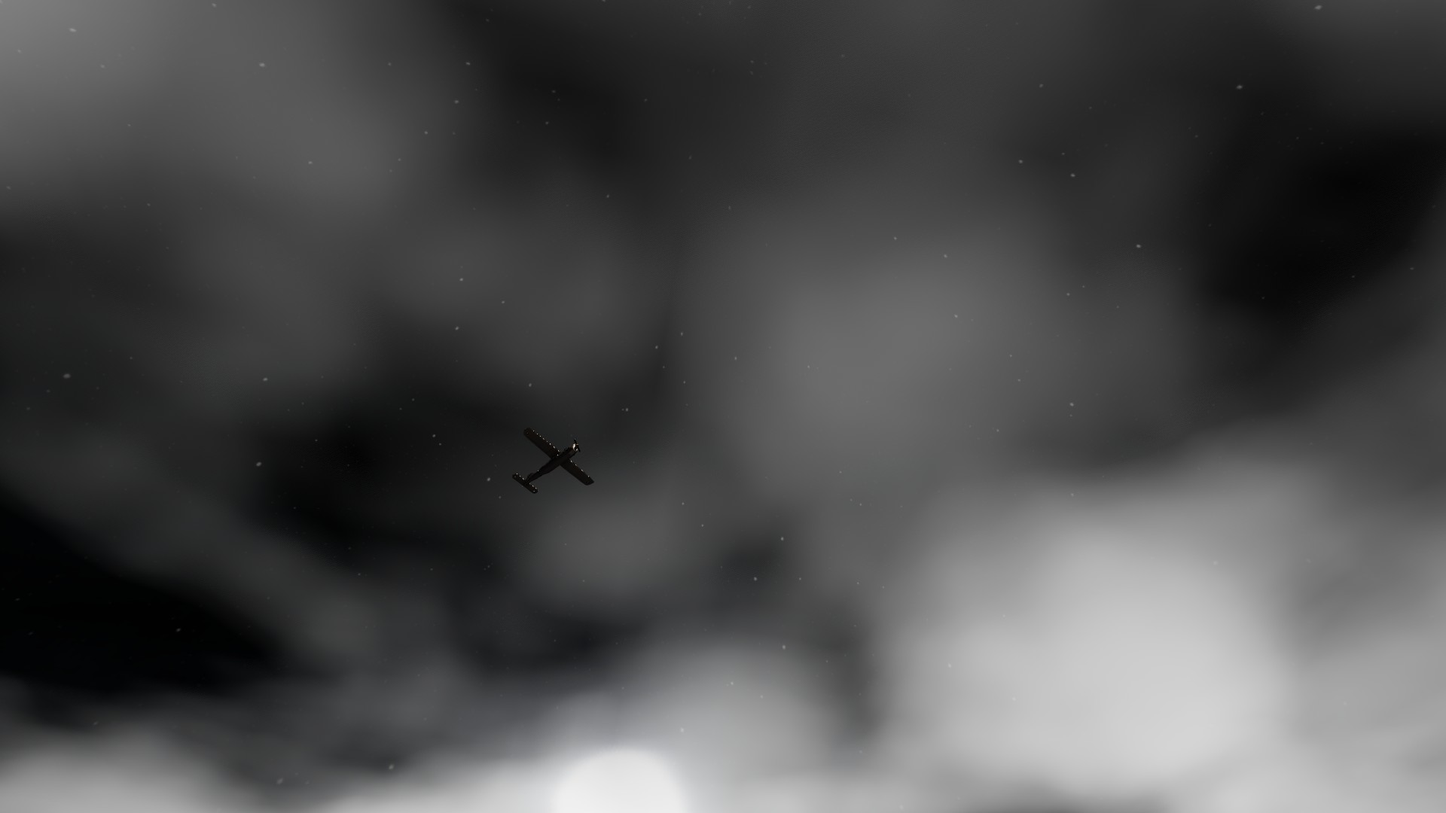drone_other: (512, 428, 594, 494)
